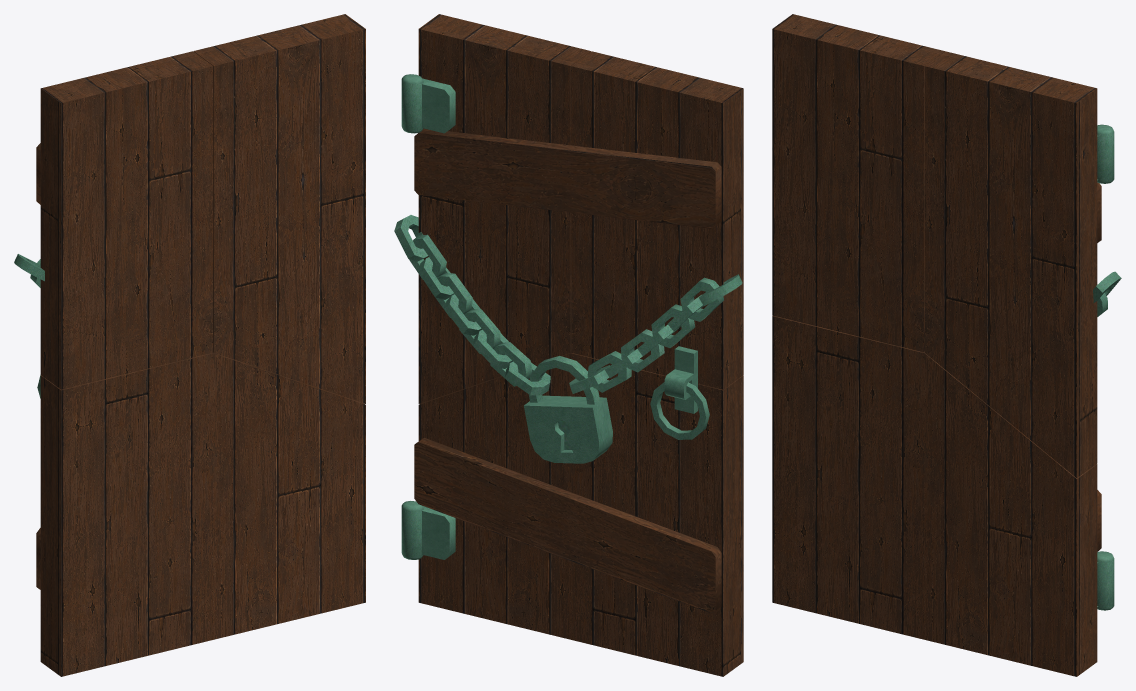
File: Bedroom_Door_Drop.fbx
3 renders of one model, left to right at view 1: azimuth 30°, elevation 25°; view 2: azimuth 150°, elevation 25°; view 3: azimuth 330°, elevation 25°, orthographic.
Parts seen in each view (by area): view 1: Bedroom_Base_Z_Door.013, Bedroom_Base_Z_Door.011, Bedroom_Base_Z_Door.012; view 2: Bedroom_Base_Z_Door.013, Bedroom_Base_Z_Door.012, Bedroom_Base_Z_Door.011, Bedroom_Base_Z_Door.008, Bedroom_Base_Z_Door.009, Bedroom_Base_Z_Door.003, Bedroom_Base_Z_Door.001, Bedroom_Base_Z_Door.002, Bedroom_Base_Z_Door.005, Bedroom_Base_Z_Door.010, Bedroom_Base_Z_Door.006, Bedroom_Base_Z_Door.007 (+1 smaller); view 3: Bedroom_Base_Z_Door.013, Bedroom_Base_Z_Door.011, Bedroom_Base_Z_Door.012, Bedroom_Base_Z_Door.007, Bedroom_Base_Z_Door.006, Bedroom_Base_Z_Door.001.
Boxes of the visible parts, bbox=[...] form: Bedroom_Base_Z_Door.013: bbox=[40, 352, 365, 676]; Bedroom_Base_Z_Door.011: bbox=[193, 14, 365, 403]; Bedroom_Base_Z_Door.012: bbox=[40, 51, 213, 389]; Bedroom_Base_Z_Door.013: bbox=[418, 352, 743, 676]; Bedroom_Base_Z_Door.012: bbox=[571, 51, 743, 389]; Bedroom_Base_Z_Door.011: bbox=[418, 14, 590, 403]; Bedroom_Base_Z_Door.008: bbox=[414, 437, 721, 613]; Bedroom_Base_Z_Door.009: bbox=[414, 128, 721, 228]; Bedroom_Base_Z_Door.003: bbox=[524, 395, 612, 463]; Bedroom_Base_Z_Door.001: bbox=[394, 215, 500, 353]; Bedroom_Base_Z_Door.002: bbox=[473, 329, 599, 404]; Bedroom_Base_Z_Door.005: bbox=[650, 346, 709, 439]; Bedroom_Base_Z_Door.010: bbox=[637, 274, 742, 355]; Bedroom_Base_Z_Door.006: bbox=[401, 74, 455, 133]; Bedroom_Base_Z_Door.007: bbox=[401, 501, 455, 559]; Bedroom_Base_Z_Door.013: bbox=[772, 315, 1097, 676]; Bedroom_Base_Z_Door.011: bbox=[925, 51, 1097, 477]; Bedroom_Base_Z_Door.012: bbox=[772, 14, 944, 352]; Bedroom_Base_Z_Door.007: bbox=[1097, 551, 1114, 610]; Bedroom_Base_Z_Door.006: bbox=[1097, 124, 1114, 183]; Bedroom_Base_Z_Door.001: bbox=[1093, 271, 1121, 316].
Size of the model in its own units: 117 by 190 by 26.94.
